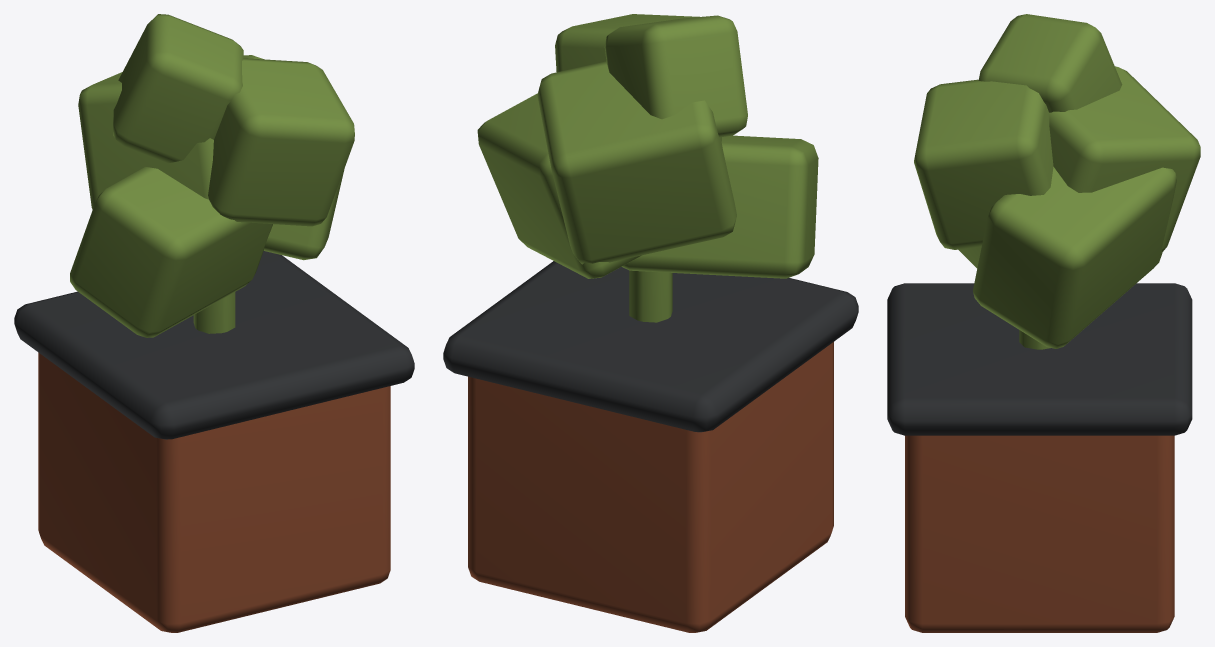
Rendered from yard-plant.glb.
The picture shows the model from 3 angles, left to right: view 1: azimuth 30°, elevation 25°; view 2: azimuth 150°, elevation 25°; view 3: azimuth 270°, elevation 25°; orthographic projection. The views are drawn at different scales.
Parts seen in each view (by area): view 1: yard-plant; view 2: yard-plant; view 3: yard-plant.
Boxes of the visible parts, x1=… form: yard-plant: x1=14, y1=14, x2=414, y2=632; yard-plant: x1=443, y1=14, x2=858, y2=632; yard-plant: x1=887, y1=14, x2=1200, y2=632.
Size of the model in its own units: 0.581 by 1.02 by 0.5343.
